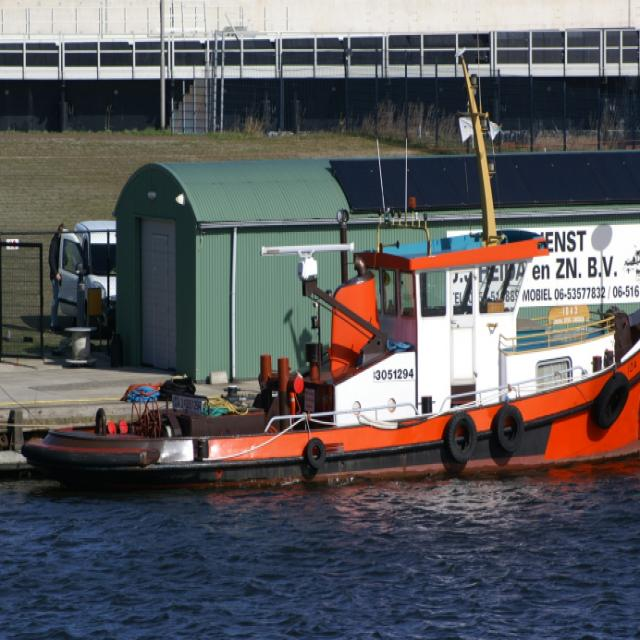tugboat: (8, 218, 640, 503)
